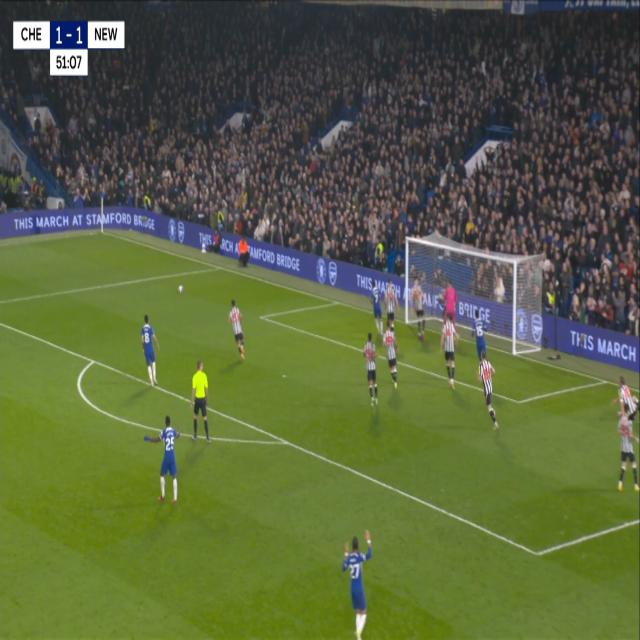Ball: (177, 283, 184, 294)
Chelsea: (338, 525, 376, 637), (138, 307, 160, 396), (367, 274, 386, 339), (470, 307, 489, 358)
New castle: (142, 411, 184, 510), (611, 401, 640, 501), (474, 345, 502, 435), (380, 320, 403, 396), (439, 316, 460, 396), (361, 331, 381, 409), (409, 274, 428, 344), (228, 296, 248, 362)
Refree: (188, 355, 213, 447)
